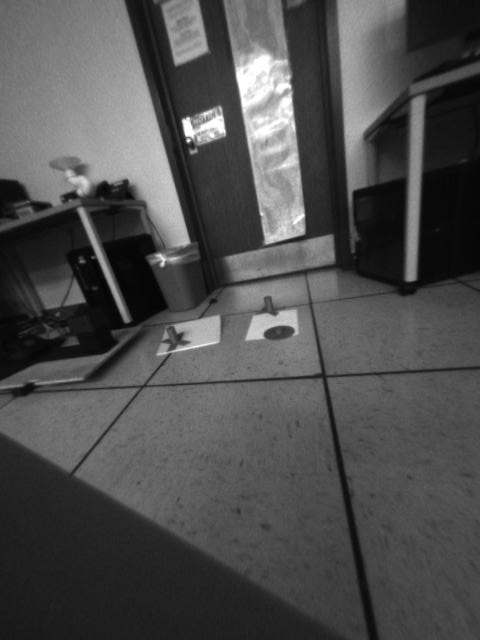X: (156, 325, 194, 353), (252, 295, 282, 317)
